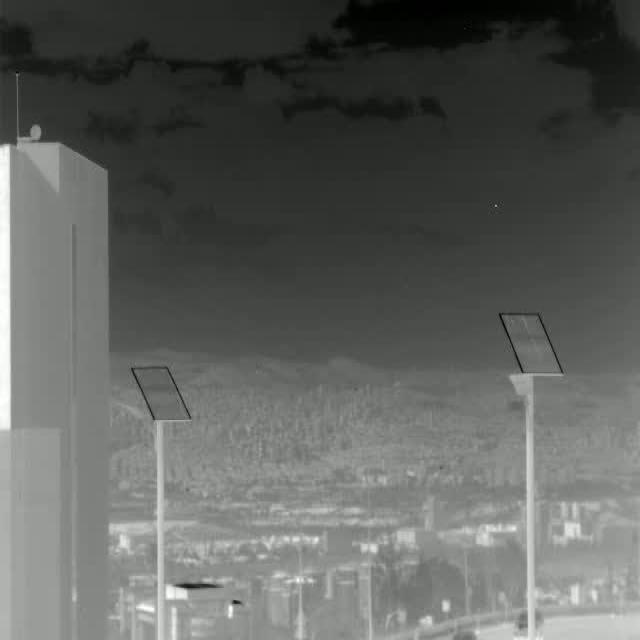Car: (513, 606, 542, 640), (452, 629, 477, 640)
